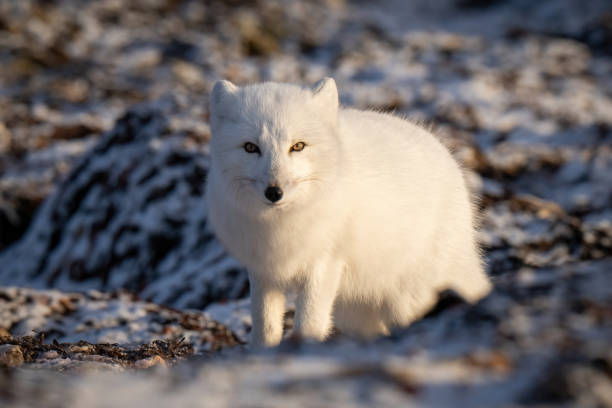arcticfox: (220, 101, 323, 224)
